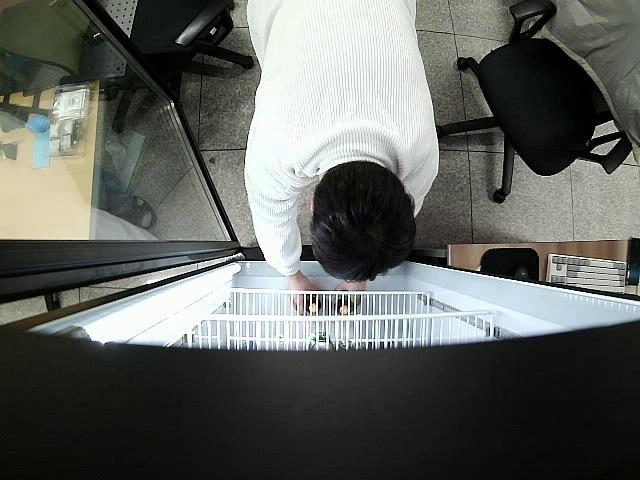17_vita500: (336, 298, 354, 316), (306, 298, 322, 315)
